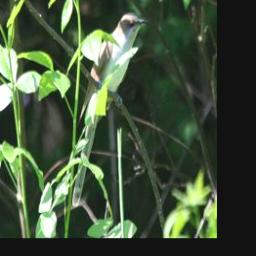Cuckoo: (71, 12, 149, 206)
